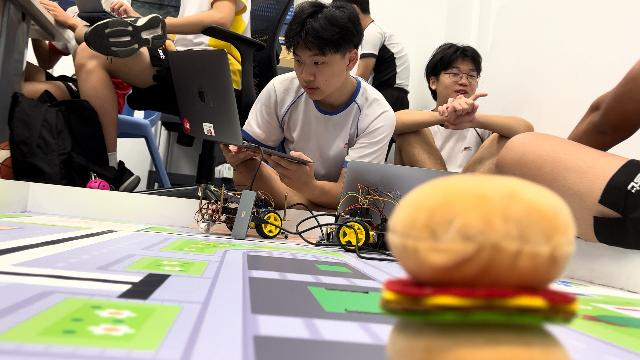burger: (378, 169, 582, 358)
